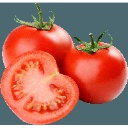tomato: (1, 49, 79, 125), (65, 42, 128, 104), (3, 22, 73, 70)
